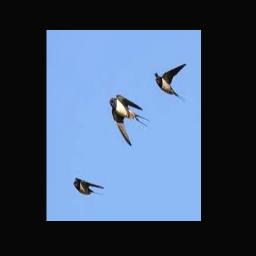Swallow: (109, 94, 150, 146), (155, 63, 187, 102), (74, 178, 104, 196)
